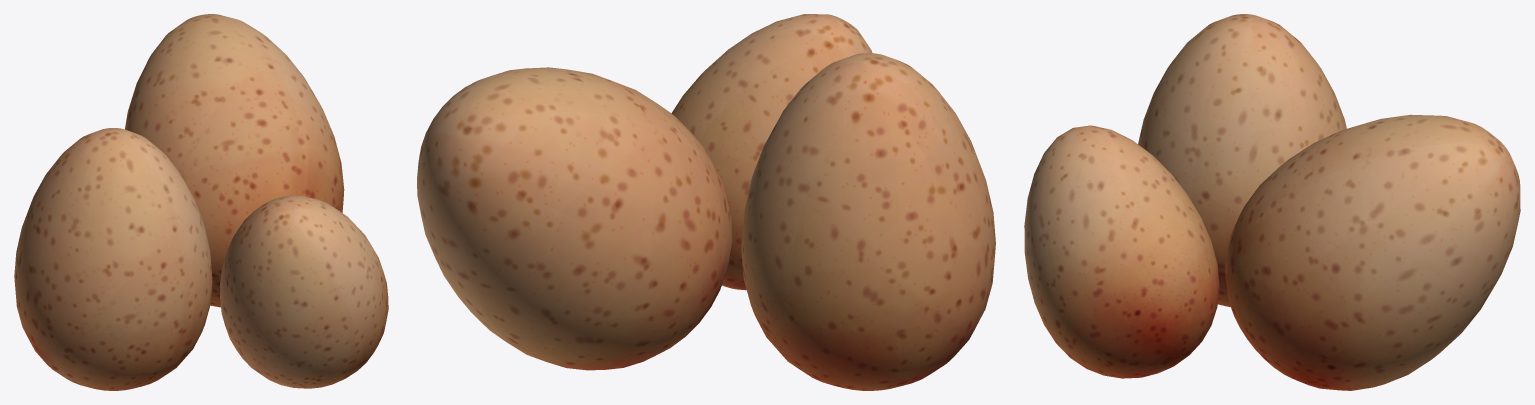
The model's file is Eggs by Dario Demi (D911C) - 8u4I9EhxWzT.glb.
3 views of the same model, side by side, from view 1: azimuth 30°, elevation 25°; view 2: azimuth 150°, elevation 25°; view 3: azimuth 270°, elevation 25° (orthographic). The views are drawn at different scales.
Visible parts, largest first — view 1: Sphere, Sphere.001, Sphere.002; view 2: Sphere.001, Sphere, Sphere.002; view 3: Sphere.001, Sphere.002, Sphere.
Part boxes in pixels (x1,y1,x2,y2): Sphere: (14,128,212,390); Sphere.001: (125,14,344,307); Sphere.002: (219,195,388,388); Sphere.001: (417,67,732,370); Sphere: (741,53,995,390); Sphere.002: (671,14,872,290); Sphere.001: (1225,114,1520,390); Sphere.002: (1024,125,1219,378); Sphere: (1138,14,1346,306).
Size of the model in its own units: 4.12 by 2.77 by 4.47.
Materials: 1 (1 with a texture image).
